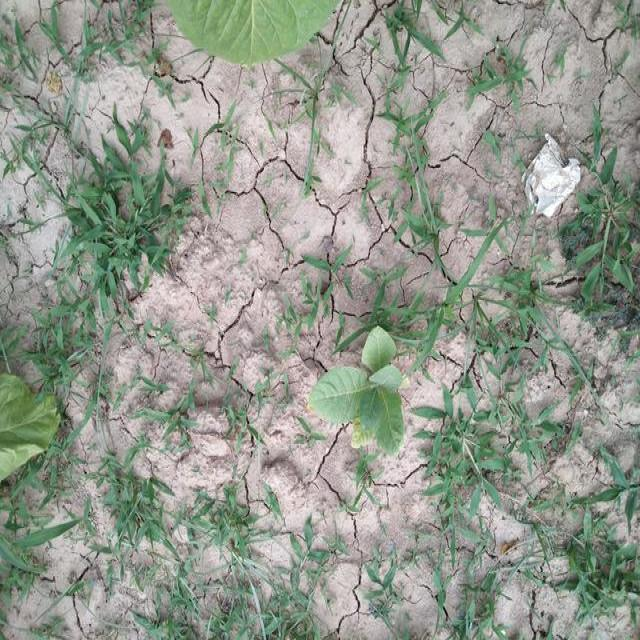crop: (310, 321, 411, 462), (161, 0, 338, 66), (0, 376, 64, 484)
